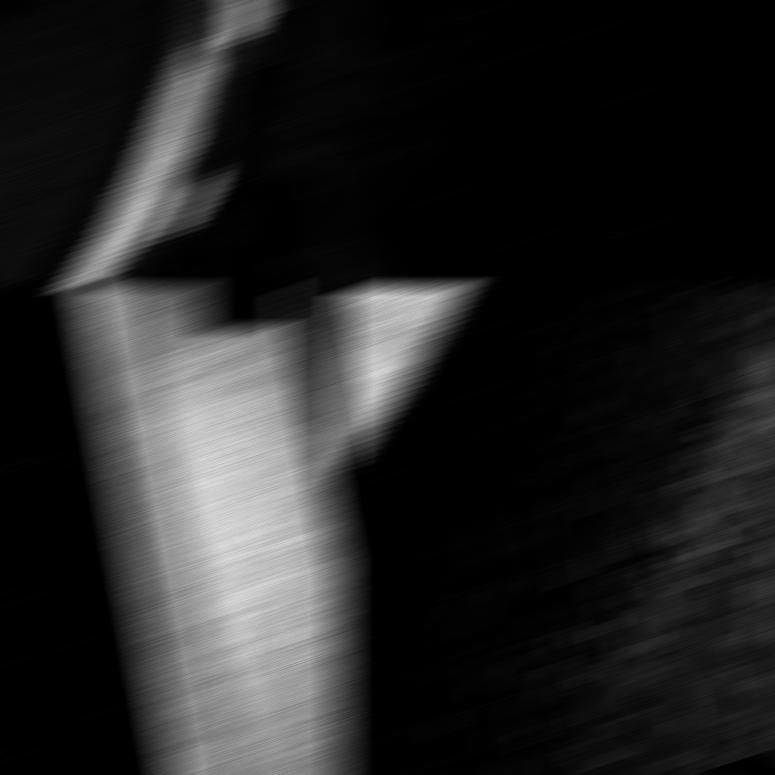Airbag: (333, 288, 775, 772), (17, 288, 349, 772), (333, 2, 775, 283), (0, 2, 348, 283)
